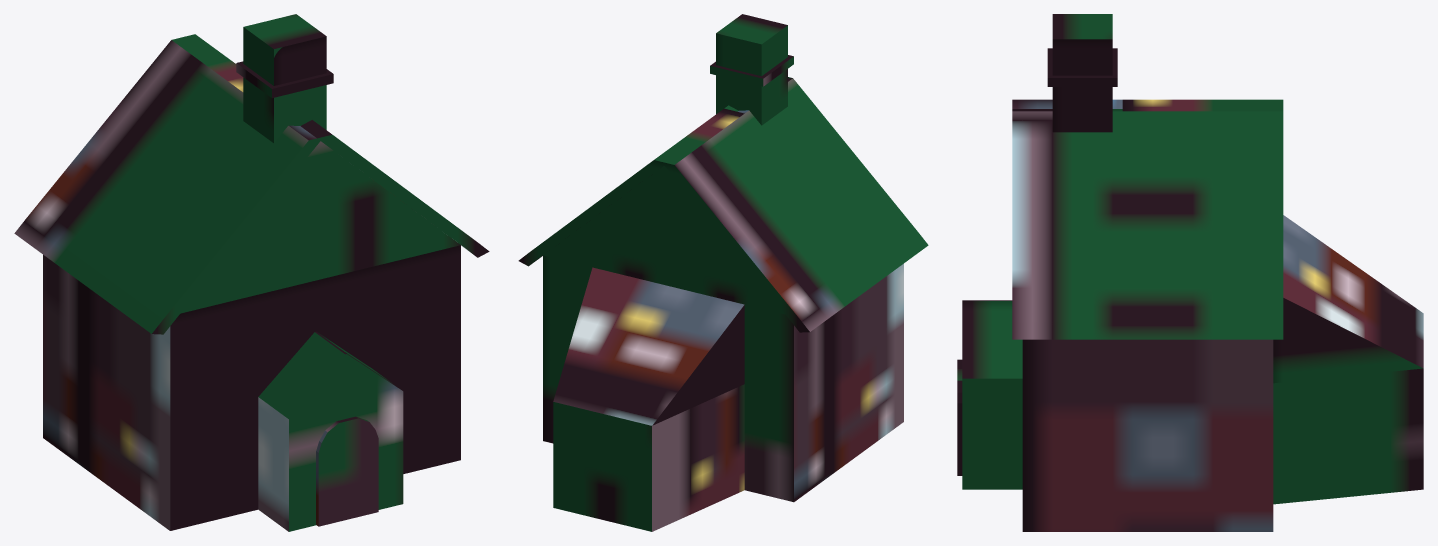
The model's file is church.obj.
3 renders of one model, left to right at view 1: azimuth 30°, elevation 25°; view 2: azimuth 150°, elevation 25°; view 3: azimuth 270°, elevation 25°, orthographic. The views are drawn at different scales.
Parts seen in each view (by area): view 1: building, steeple, double_door; view 2: building, steeple; view 3: building, steeple, double_door.
Boxes of the visible parts, x1,y1,x2,y2 form: building: (14,34,489,531); steeple: (236,14,333,142); double_door: (316,416,378,526); building: (518,77,928,531); steeple: (710,14,793,125); building: (962,99,1423,531); steeple: (1047,14,1117,132); double_door: (957,359,962,475).
Bounding box in the file's own units: 2.4 × 2.99 × 2.91.
